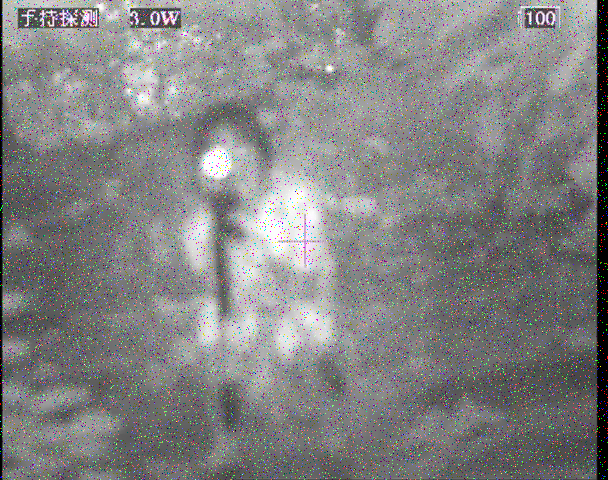my: (201, 146, 230, 177)
